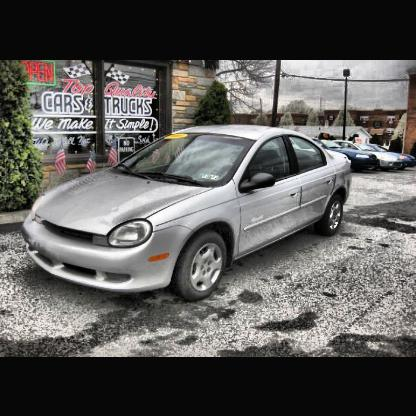Plymouth Neon Coupe 1999: (22, 123, 354, 304)
